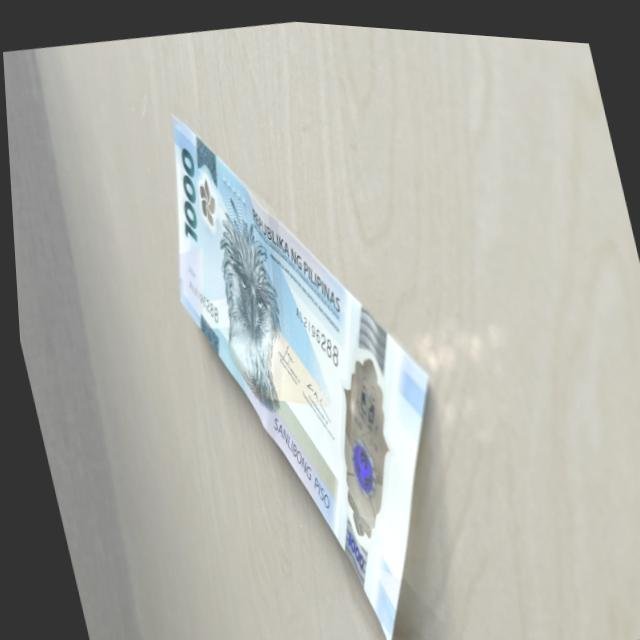clear_window: (298, 341, 411, 548)
eagle: (195, 212, 294, 389)
sampaguita: (188, 173, 217, 222)
